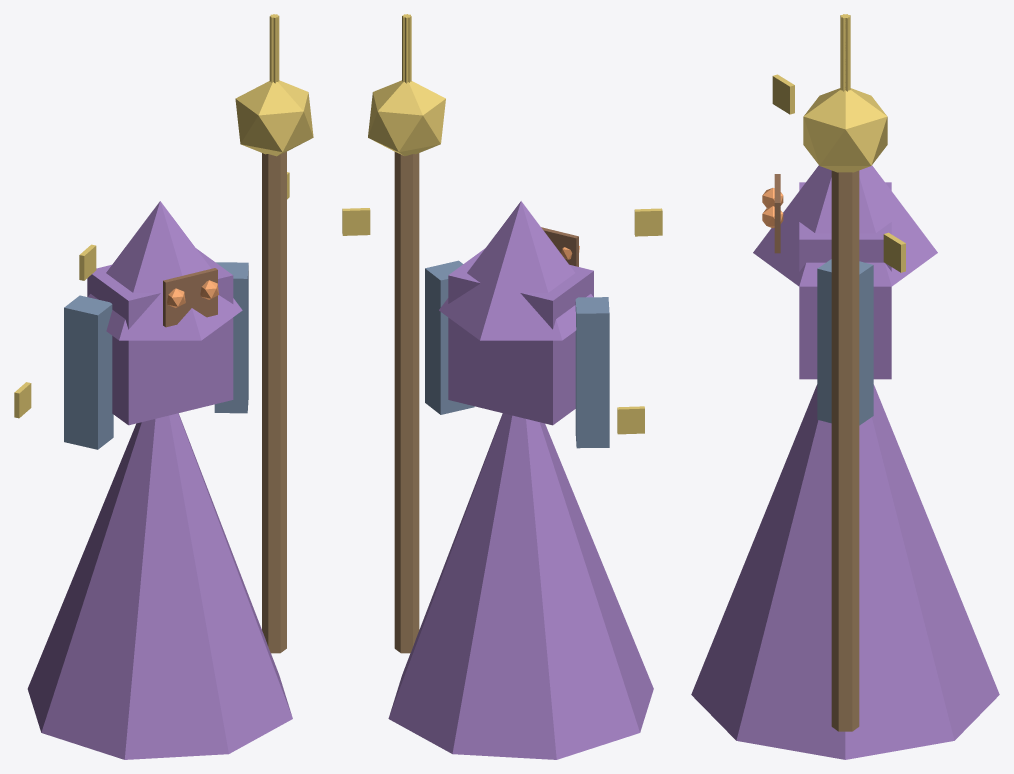
The model's file is npcpose_stormcaller_walk_00.glb.
3 renders of one model, left to right at view 1: azimuth 30°, elevation 25°; view 2: azimuth 150°, elevation 25°; view 3: azimuth 270°, elevation 25°, orthographic. The views are drawn at different scales.
Visible parts, largest first — view 1: npcpose; view 2: npcpose; view 3: npcpose.
Part boxes in pixels (x1,y1,x2,y2): npcpose: (14,14,313,759); npcpose: (342,14,662,759); npcpose: (691,14,999,759).
Bounding box in the file's own units: 1.21 × 2.65 × 1.
